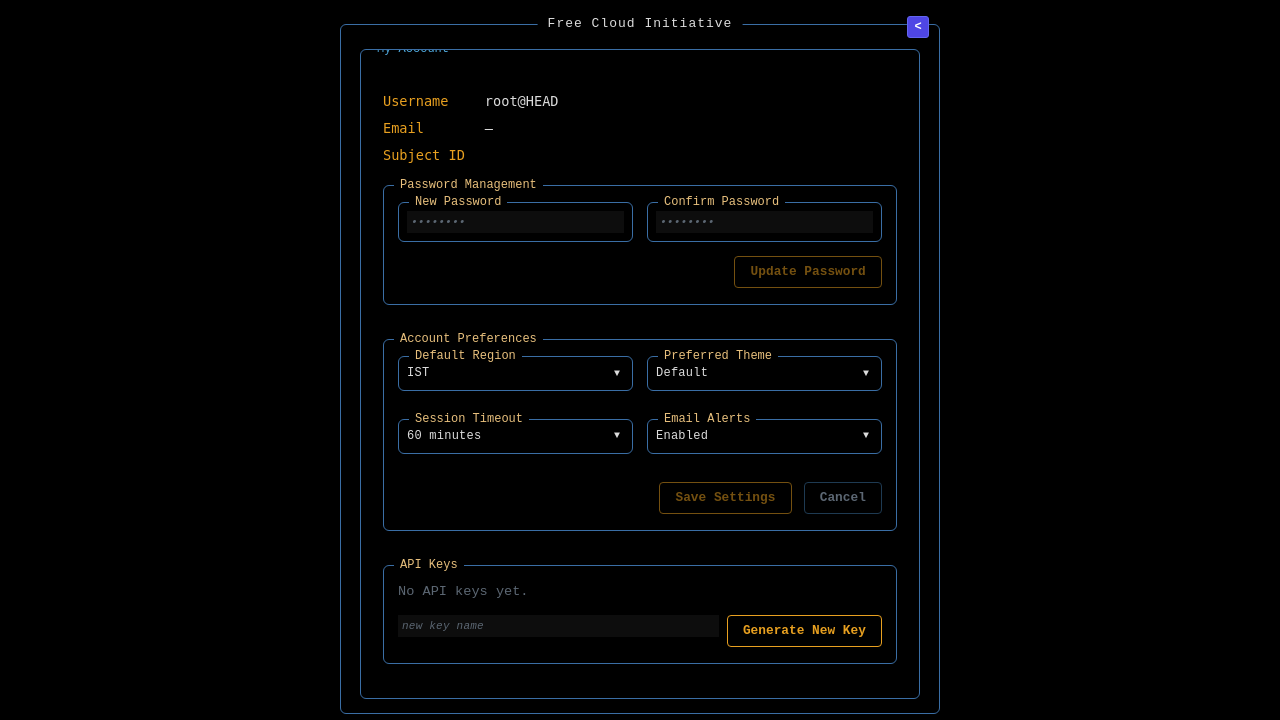
Test: MyAccountPage › generates a new API key and shows it in the list
expect the password field labelled "New Password" is shown: met, box [407,211,624,233]
Type "test-key" into the field labelled "API Keys" at (558, 626), box [398,615,719,637]
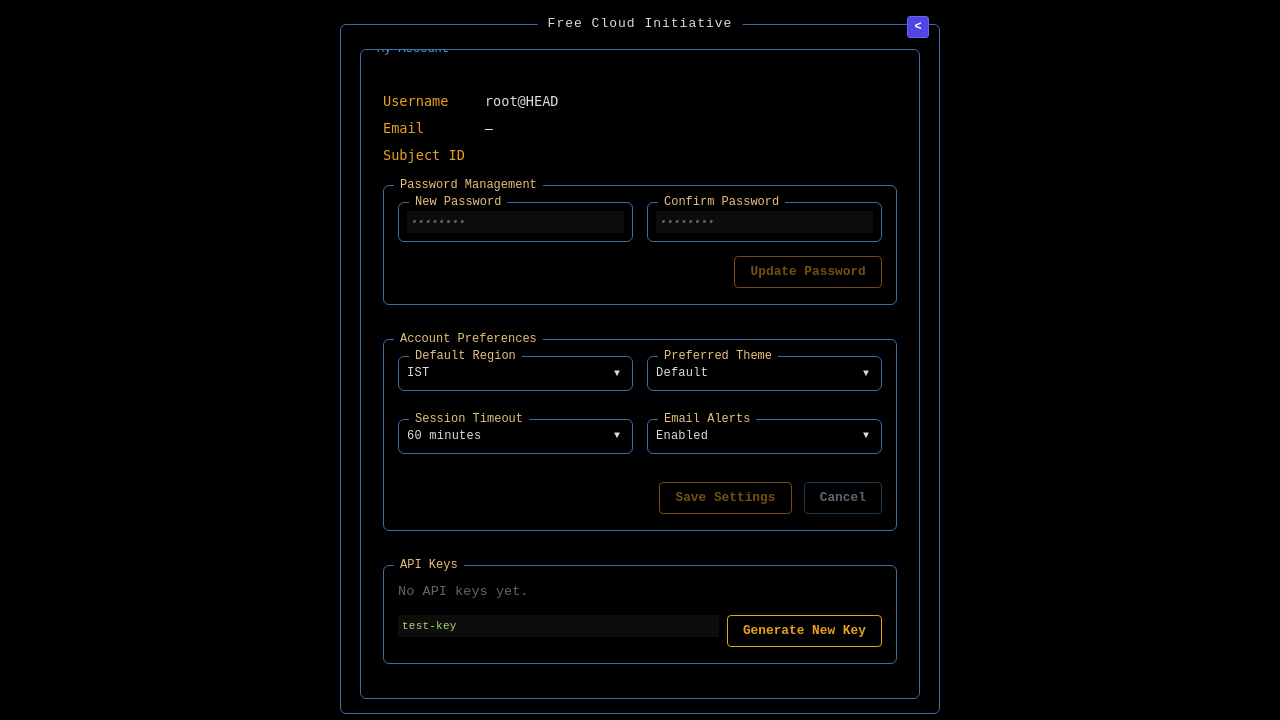
Click the button "Generate New Key" at (804, 631), box [727,615,882,647]
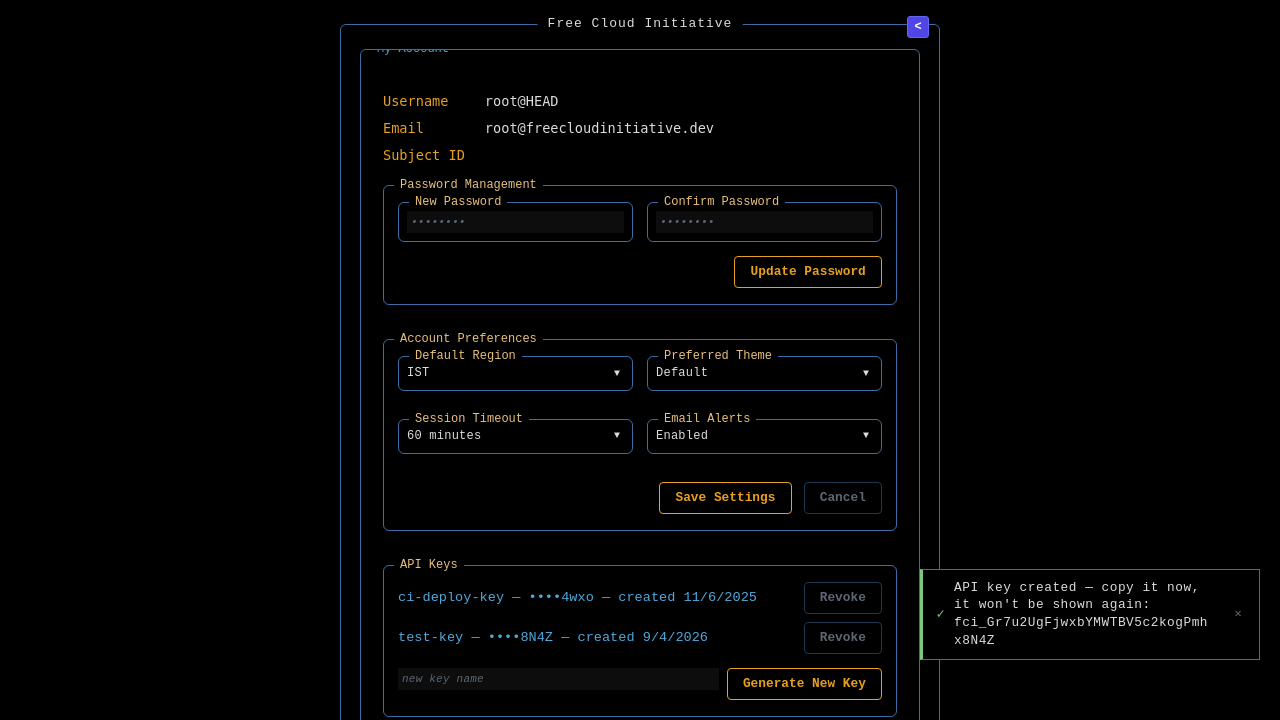
expect the text "test-key — ••••8N4Z — created 9/4/2026" is shown: met, box [398,628,708,647]
